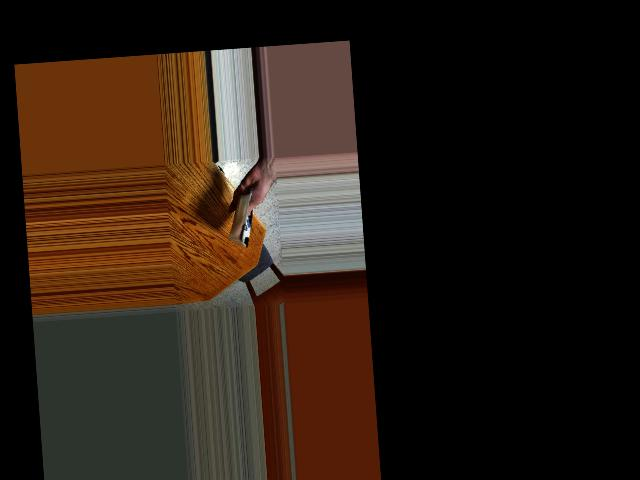cheese: (220, 192, 268, 246)
